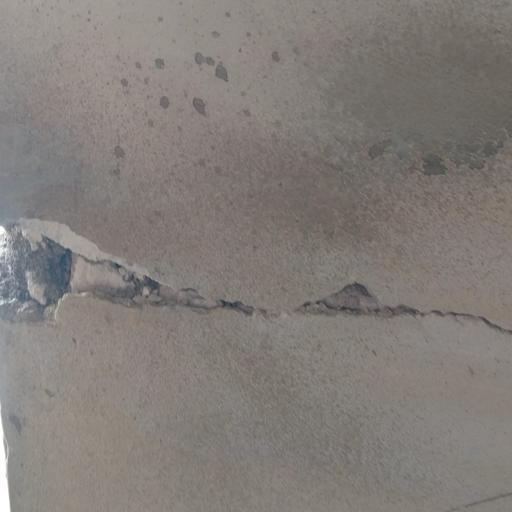major_crack: (0, 192, 512, 366)
